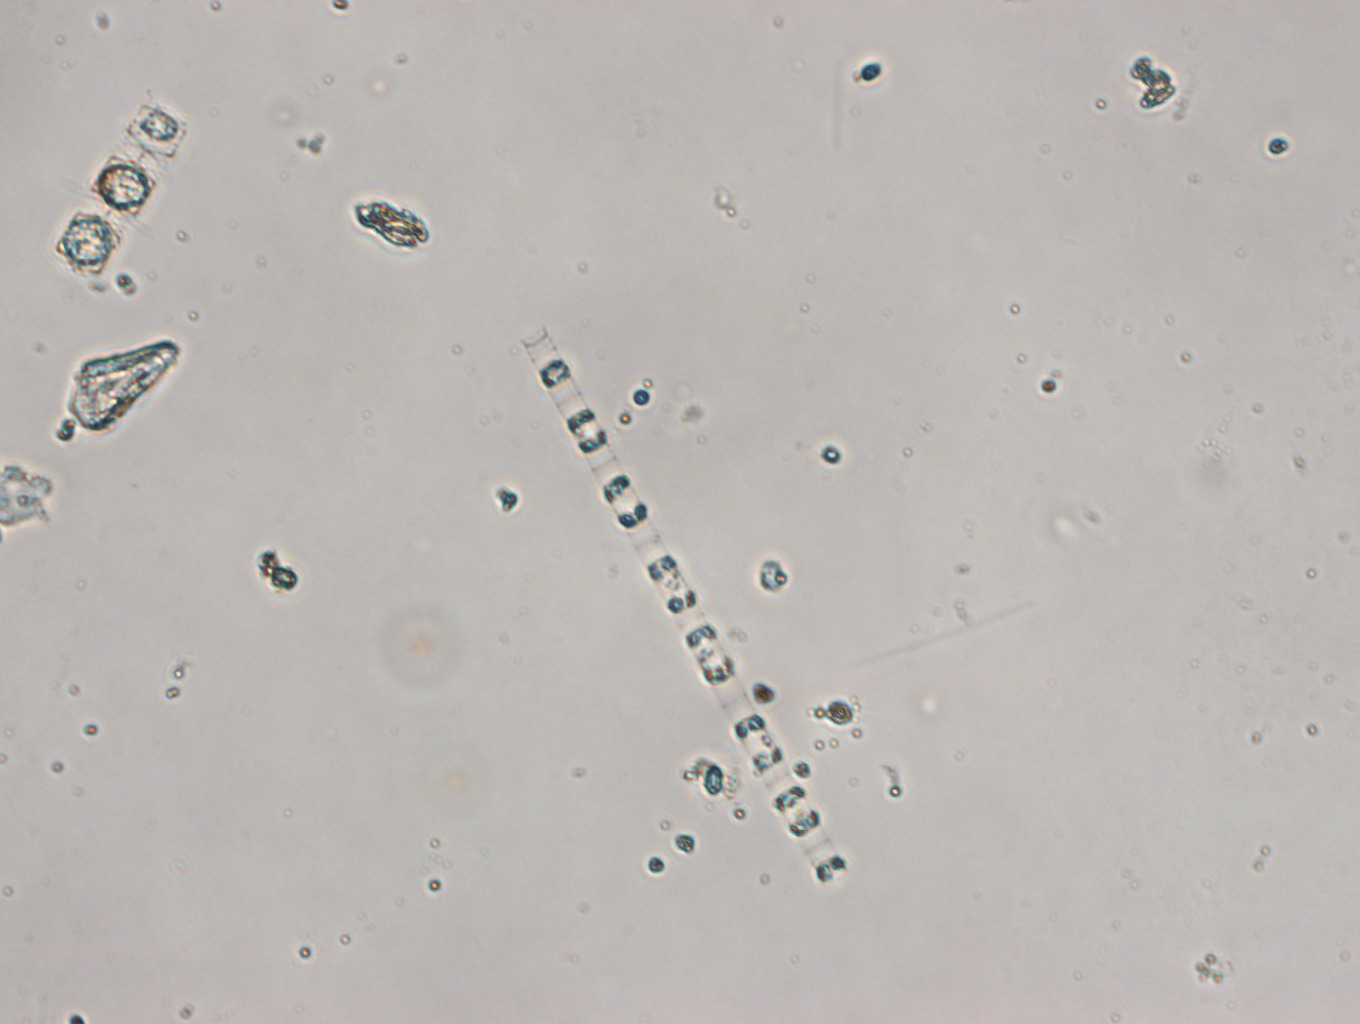skeletonema: (522, 317, 862, 876)
